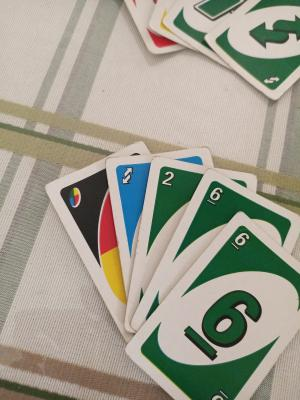green: (206, 260, 260, 386)
num_2: (154, 165, 181, 192)
num_6: (205, 184, 227, 209), (231, 227, 250, 251)
reverse: (118, 166, 137, 188)
wild: (60, 186, 88, 211)
